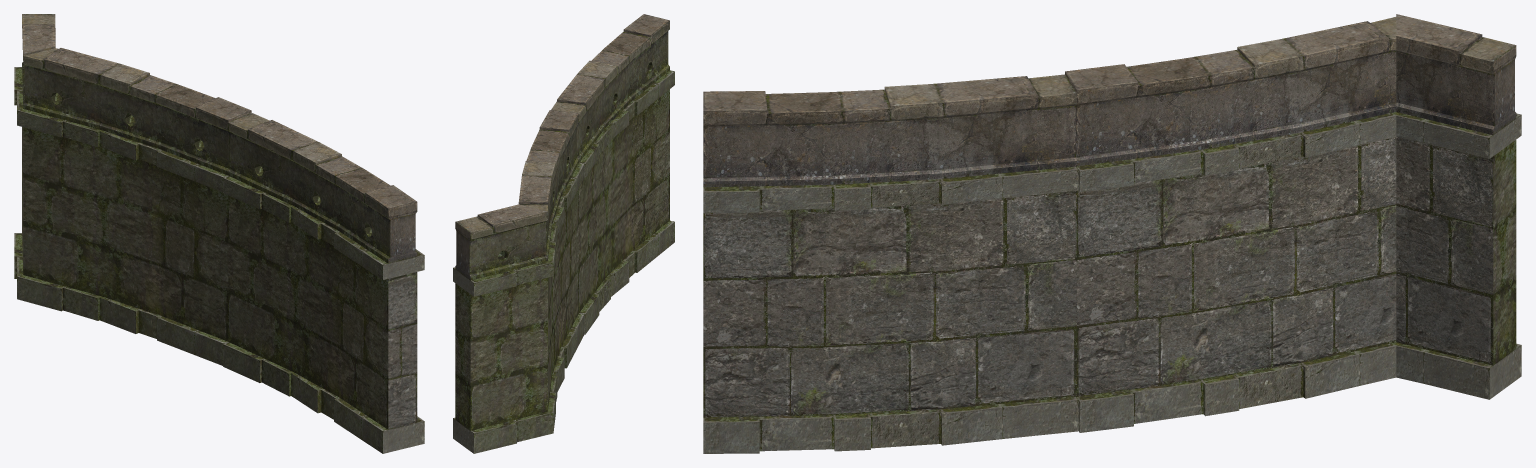
File: bg_lut_lutomb_wall05_sm_old (2).FBX
3 views of the same model, side by side, from view 1: azimuth 30°, elevation 25°; view 2: azimuth 150°, elevation 25°; view 3: azimuth 270°, elevation 25° (orthographic). The views are drawn at different scales.
Visible parts, largest first — view 1: bg_lut_lutomb_wall05_sm_old; view 2: bg_lut_lutomb_wall05_sm_old; view 3: bg_lut_lutomb_wall05_sm_old.
Boxes of the visible parts, <box> form: bg_lut_lutomb_wall05_sm_old: <box>14,14,424,453</box>; bg_lut_lutomb_wall05_sm_old: <box>453,14,674,453</box>; bg_lut_lutomb_wall05_sm_old: <box>703,14,1521,453</box>.
Bounding box in the file's own units: 349 × 517 × 1134.
